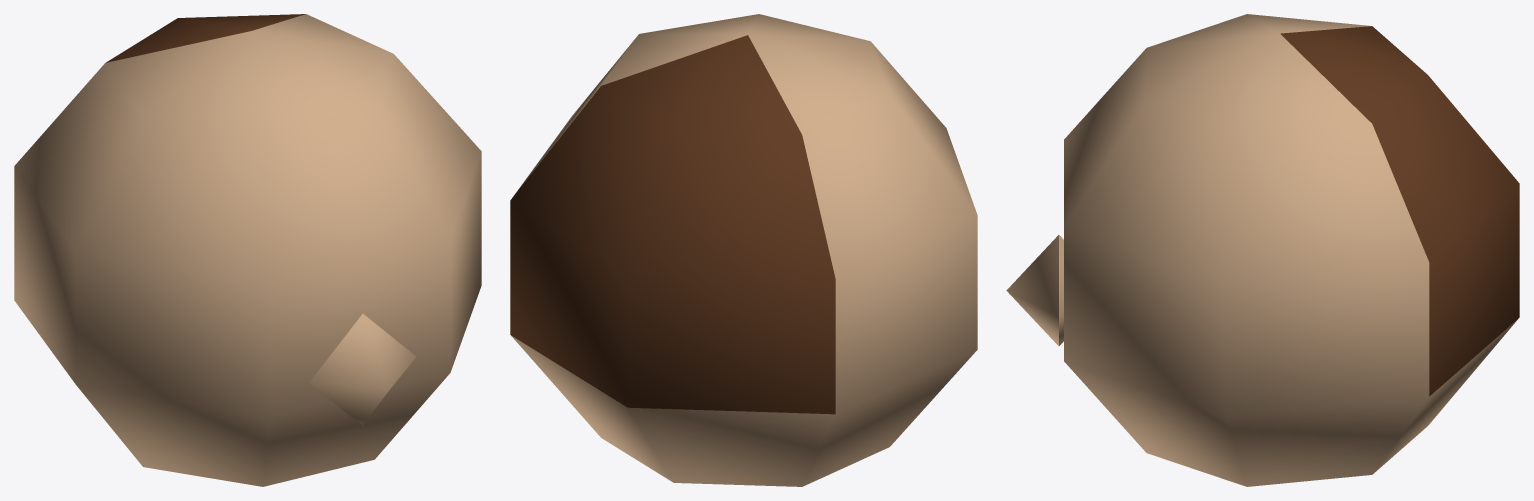
Rendered from serf_head.glb.
3 renders of one model, left to right at view 1: azimuth 30°, elevation 25°; view 2: azimuth 150°, elevation 25°; view 3: azimuth 270°, elevation 25°, orthographic.
Visible parts, largest first — view 1: serf_head; view 2: serf_head; view 3: serf_head.
Part boxes in pixels (x1=…): serf_head: x1=14, y1=14, x2=481, y2=486; serf_head: x1=510, y1=14, x2=977, y2=486; serf_head: x1=1006, y1=14, x2=1519, y2=486.
Size of the model in its own units: 0.1427 by 0.1462 by 0.1567.
